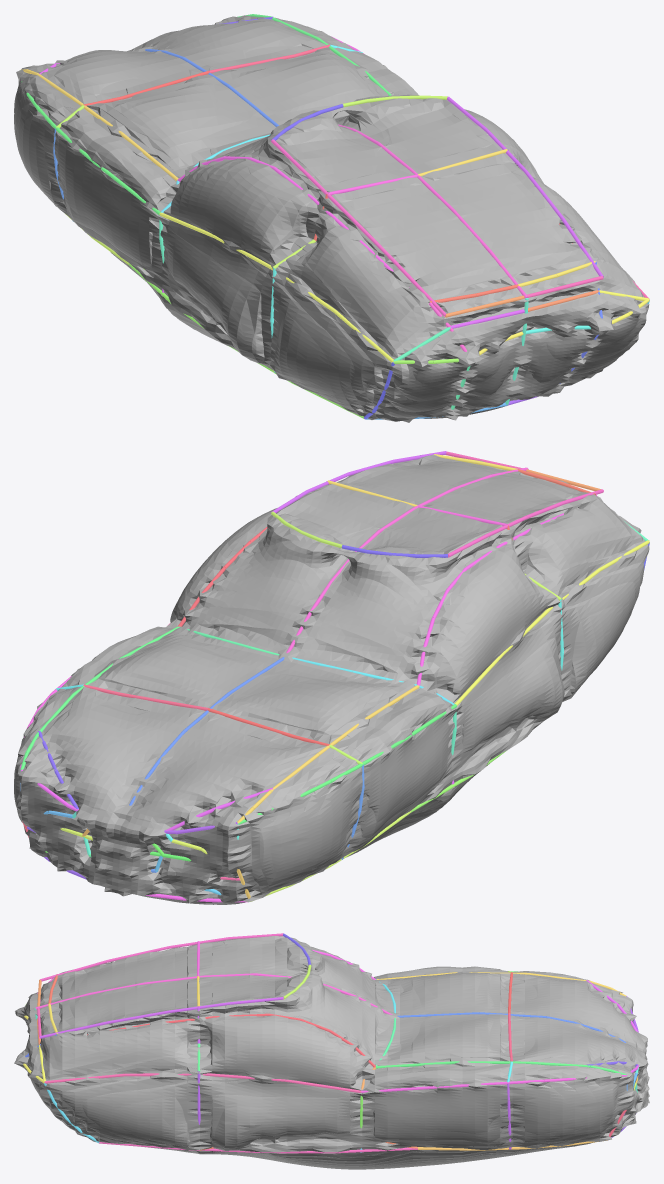
The model's file is ils_car2.gltf.
The picture shows the model from 3 angles, top to bottom: view 1: azimuth 30°, elevation 25°; view 2: azimuth 150°, elevation 25°; view 3: azimuth 270°, elevation 25°; orthographic projection. The views are drawn at different scales.
Size of the model in its own units: 0.4044 by 0.2982 by 0.9215.
